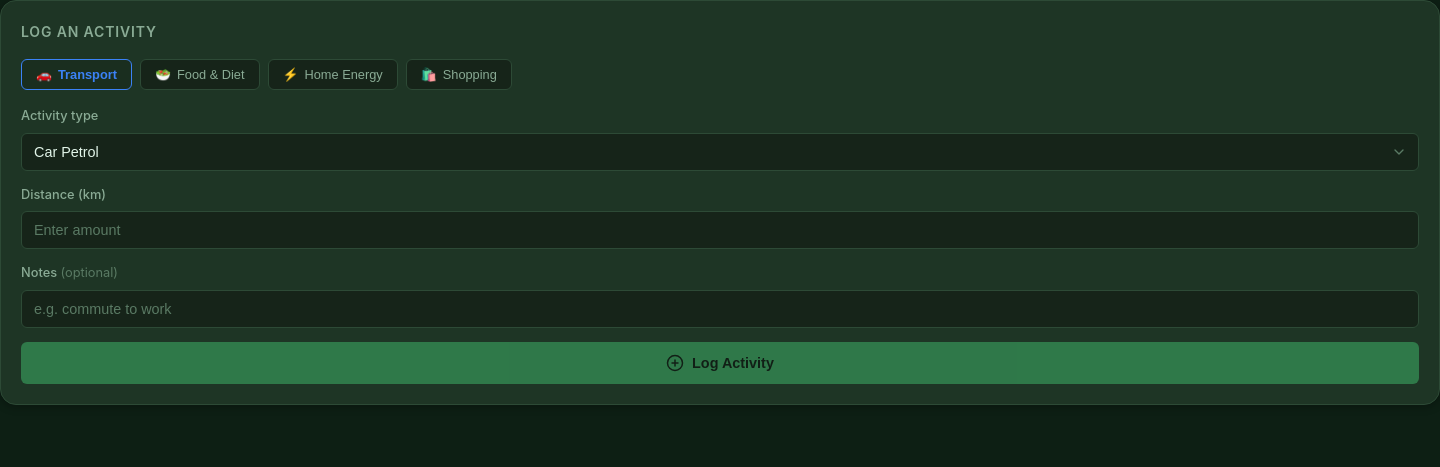
Test case: ActivityLogger › enables submit button when valid amount entered
Type "100" into the number field labelled "Distance (km)" at (720,230), box x1=21 y1=211 x2=1419 y2=249
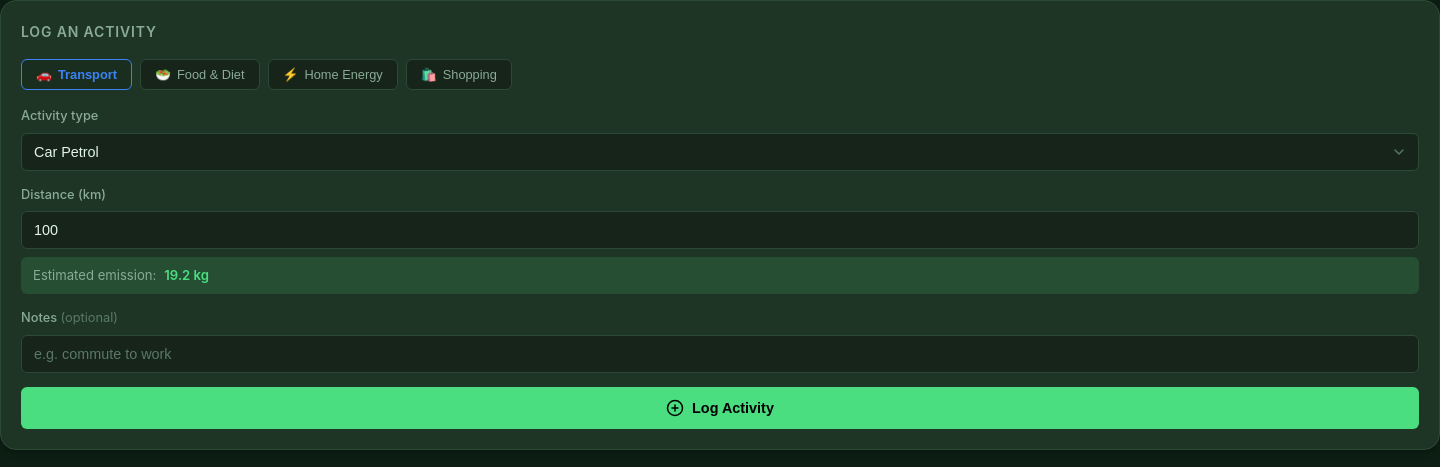
Expected: the button "Log Activity" is enabled, x1=21 y1=387 x2=1419 y2=429
